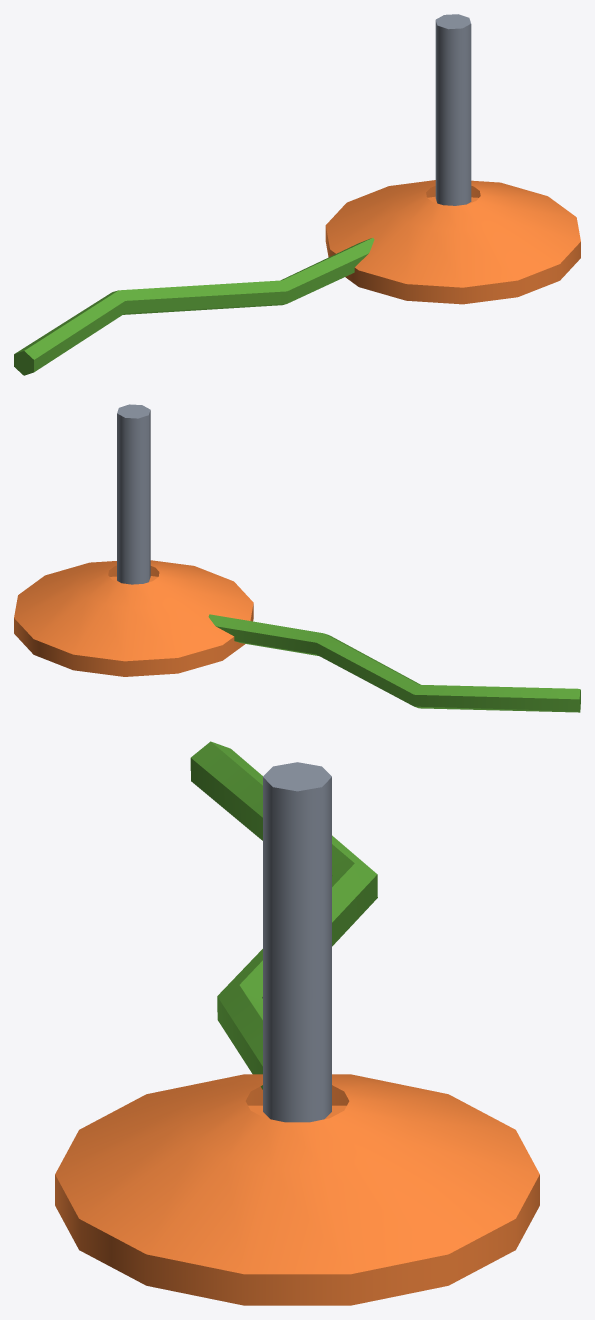
File: SprinklerBase.fbx
The picture shows the model from 3 angles, top to bottom: view 1: azimuth 30°, elevation 25°; view 2: azimuth 150°, elevation 25°; view 3: azimuth 270°, elevation 25°; orthographic projection. The views are drawn at different scales.
Visible parts, largest first — view 1: SprinklerBase; view 2: SprinklerBase; view 3: SprinklerBase.
Part boxes in pixels (bbox=[...]): SprinklerBase: bbox=[14, 14, 580, 375]; SprinklerBase: bbox=[14, 404, 580, 712]; SprinklerBase: bbox=[55, 741, 539, 1305].
Size of the model in its own units: 2.13 by 0.82 by 0.84.
